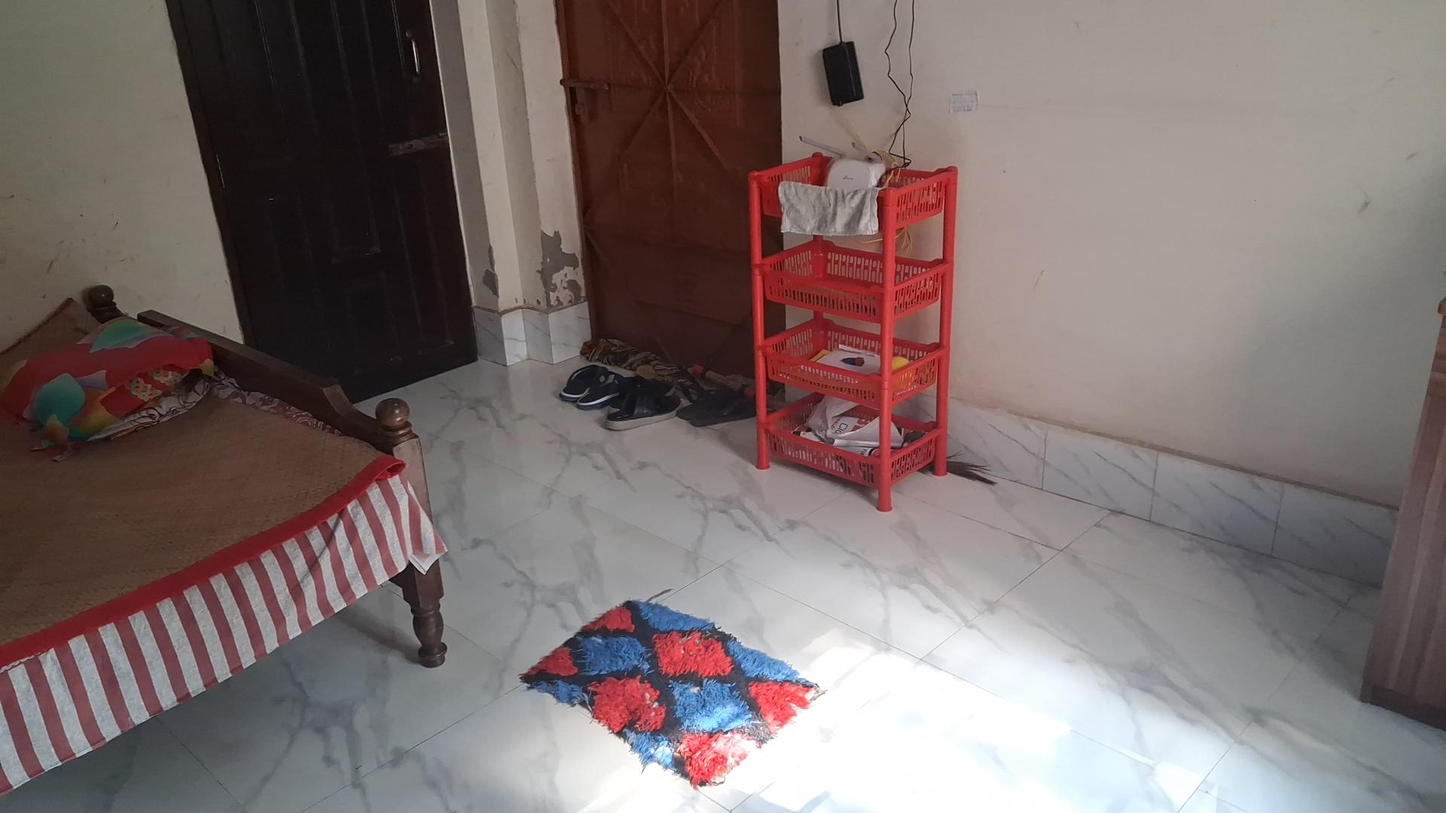Floor Mat: (513, 598, 826, 785)
Footwear: (595, 382, 679, 430), (679, 385, 757, 429), (557, 366, 628, 404)
Pillow: (0, 321, 207, 438)
Rack: (746, 133, 956, 511)
